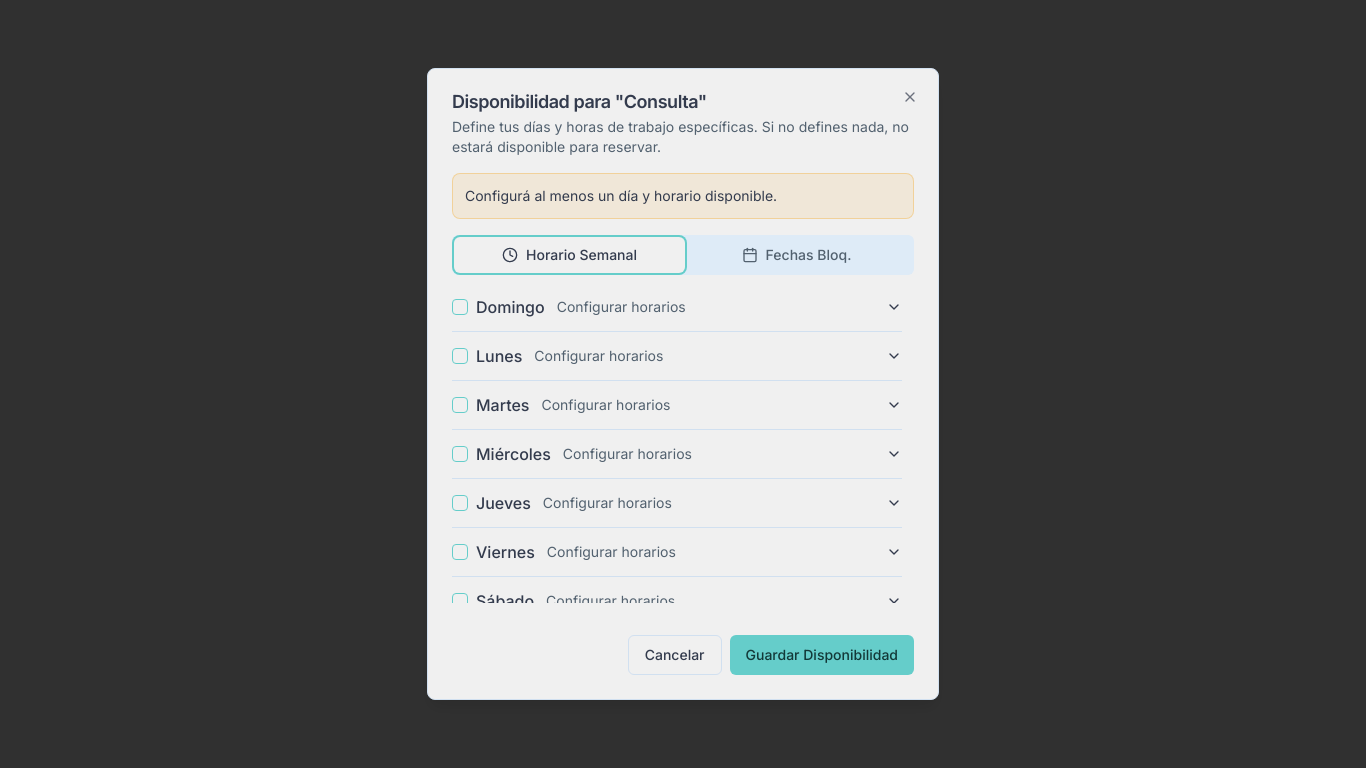
Test case: AvailabilitySettingsModal › separa el checkbox del trigger y permite activar, expandir y editar un día
Later steps or results of the test are not shown.
Click the checkbox named "Lunes" next to "Lunes" at (460, 356), box [452, 348, 468, 364]
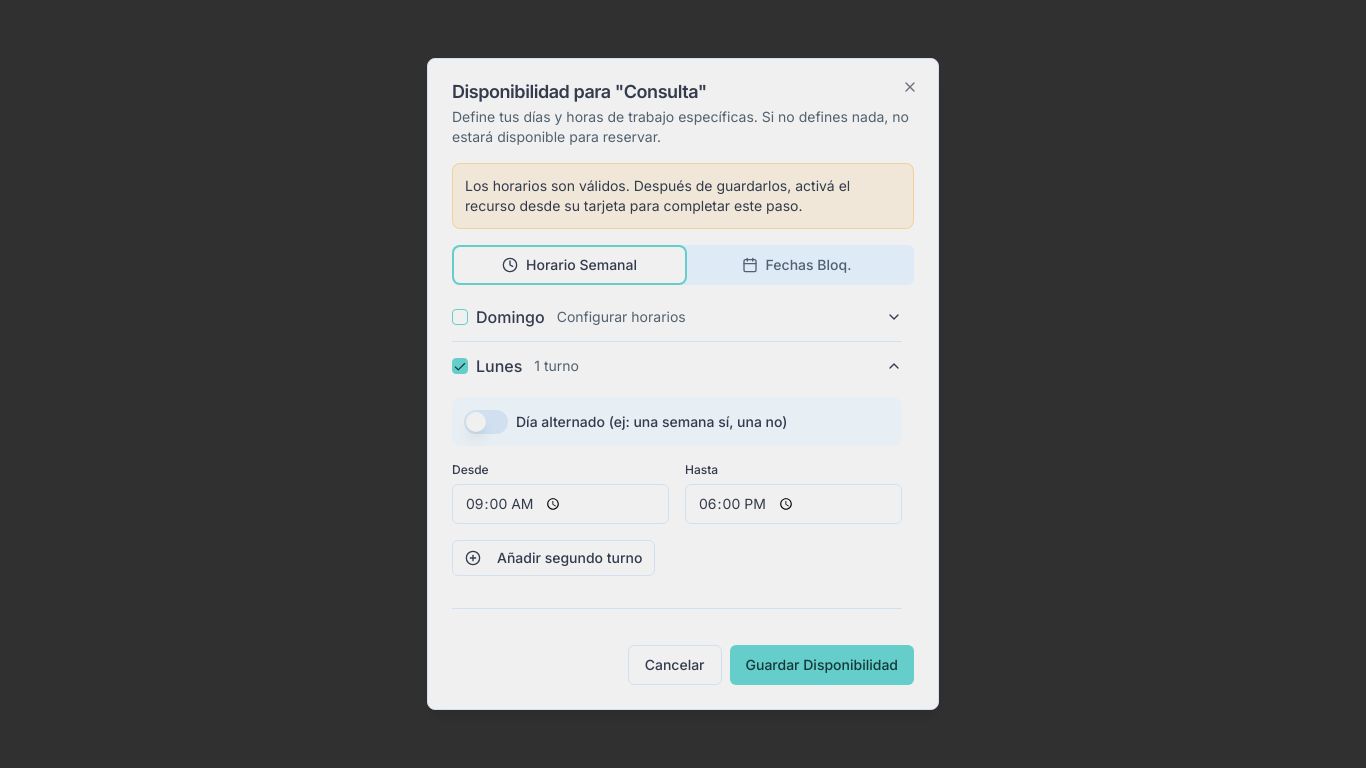
Expected: the button named "1 turno de lunes" is expanded
Expected: the time field labelled "Desde" holds "09:00", [452, 484, 669, 524]
Click the button named "1 turno de lunes" at (557, 366), box [534, 344, 902, 388]
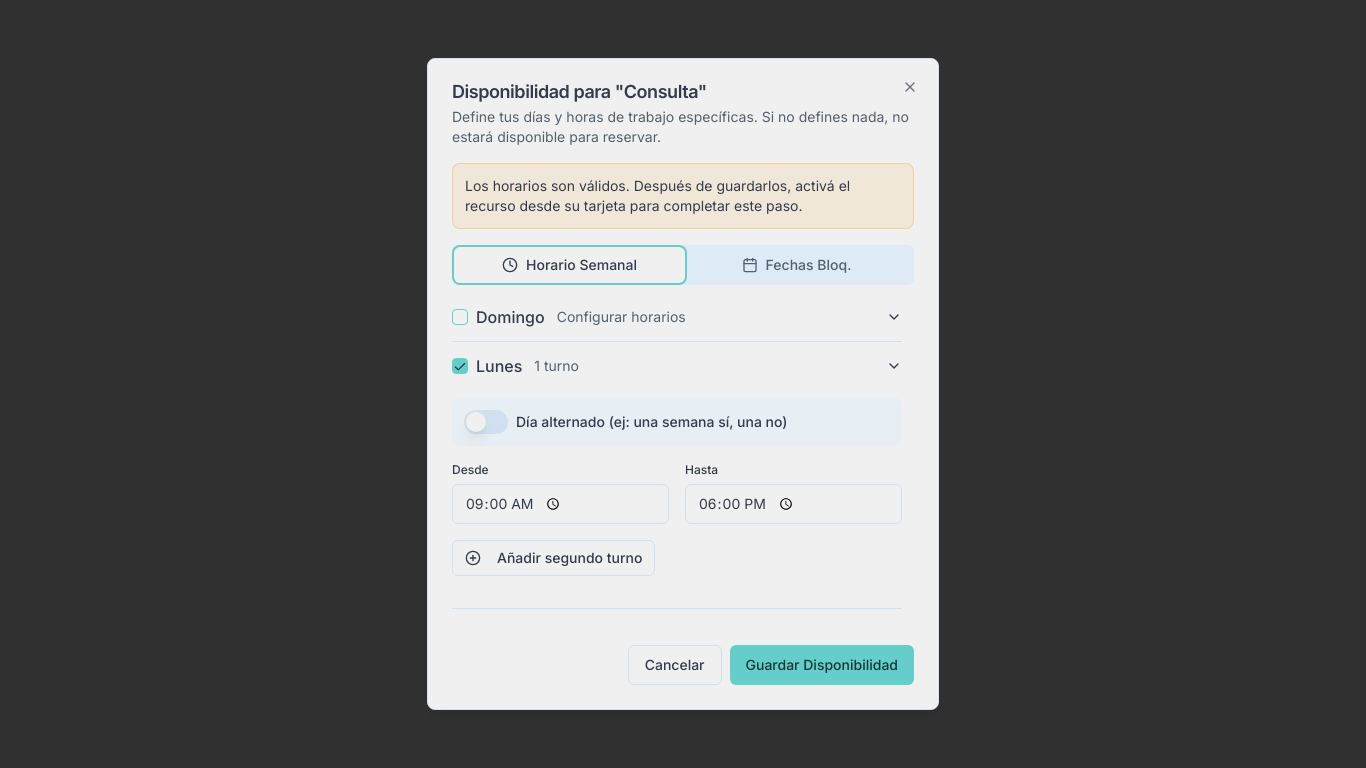
Expected: the button named "1 turno de lunes" is collapsed
Click the button named "1 turno de lunes" at (557, 366), box [534, 344, 902, 388]
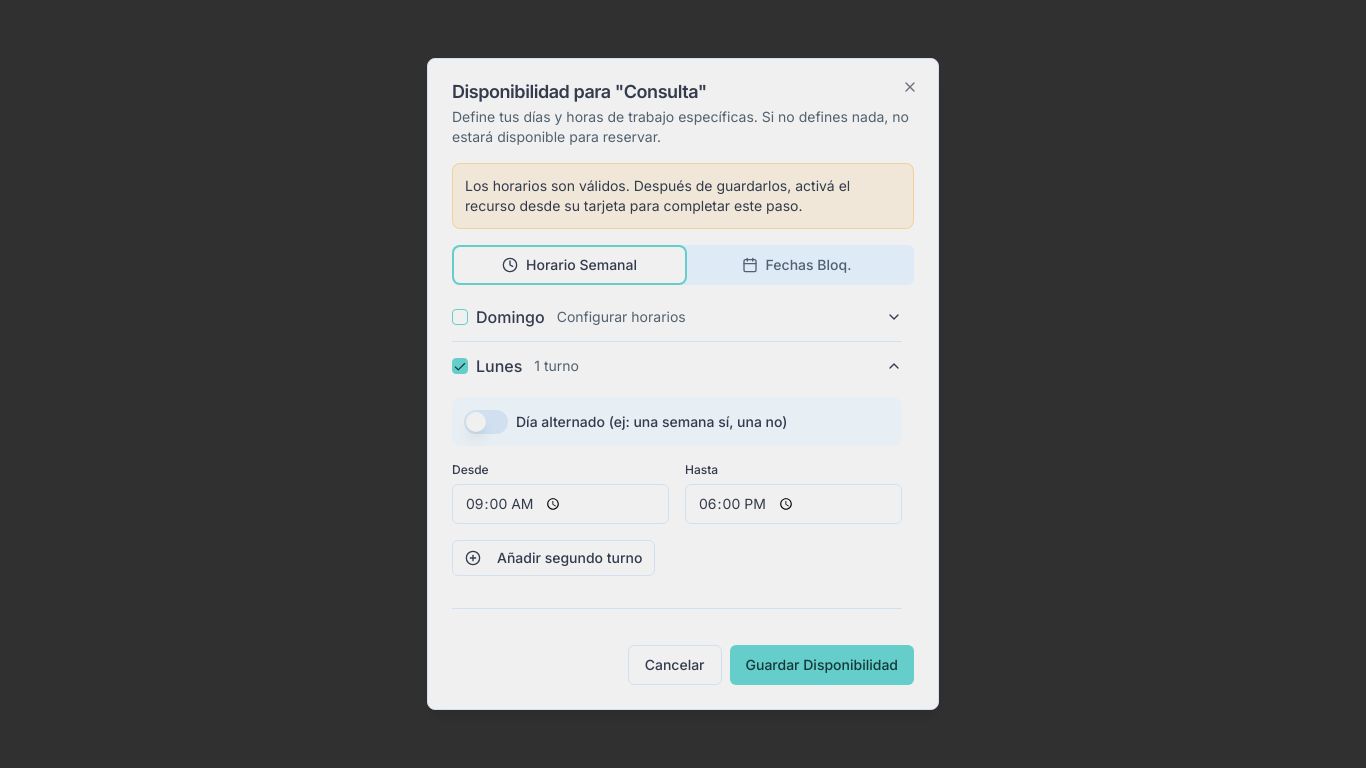
Expected: the button named "1 turno de lunes" is expanded, [534, 344, 902, 388]
